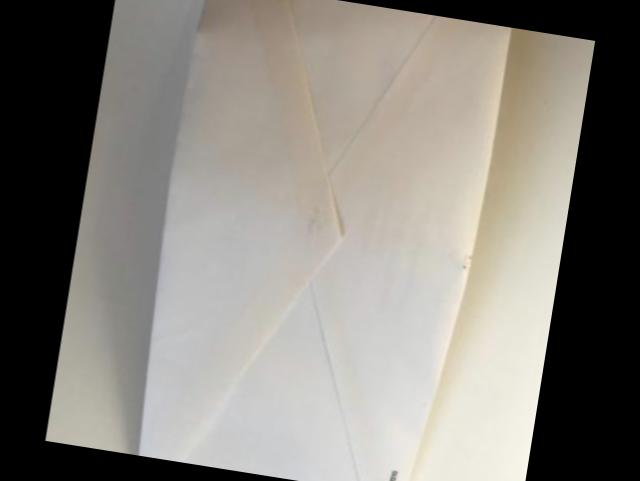cardboard paper: (137, 0, 508, 481)
